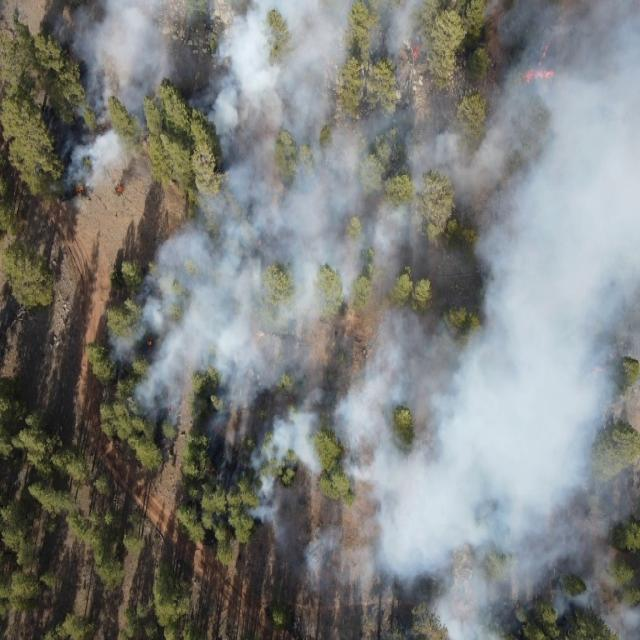fire: (536, 38, 554, 68), (523, 68, 558, 82), (72, 184, 84, 198), (410, 46, 422, 60), (115, 184, 124, 193), (146, 338, 154, 348), (168, 405, 175, 416), (256, 240, 264, 246)
smoke: (485, 0, 640, 612), (196, 114, 484, 436), (170, 0, 444, 112), (49, 0, 170, 200), (352, 436, 486, 600), (133, 222, 197, 430), (208, 435, 352, 489), (295, 526, 351, 593), (246, 490, 294, 560), (425, 601, 485, 640), (107, 299, 132, 366), (602, 612, 640, 640), (486, 613, 511, 639)
